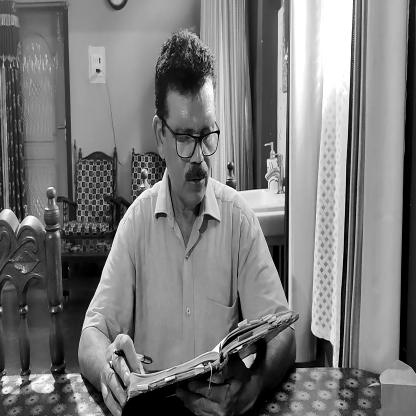Normal: (154, 36, 219, 219)
